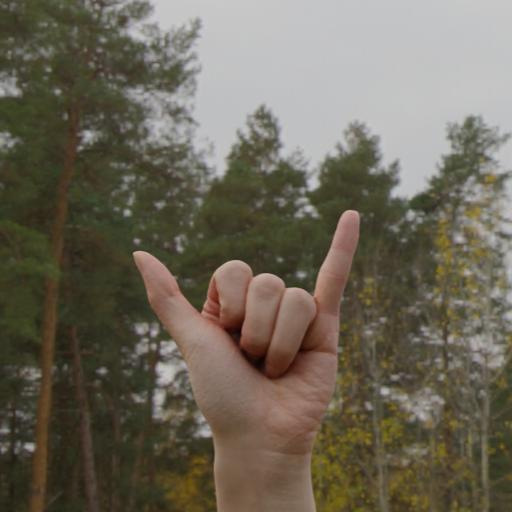Y: (116, 206, 382, 461)
